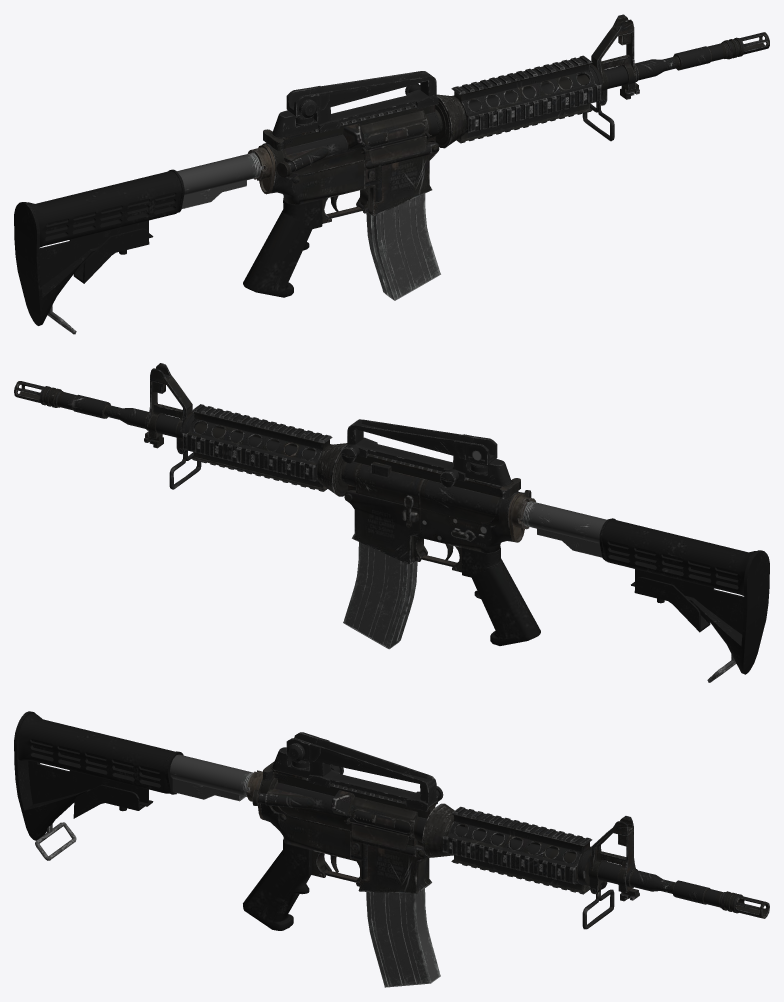
Rendered from silah_m4.glb.
3 renders of one model, top to bottom at view 1: azimuth 30°, elevation 25°; view 2: azimuth 150°, elevation 25°; view 3: azimuth 330°, elevation 25°, orthographic.
Visible parts, largest first — view 1: Body_Body1_0, Stock_lambert4_0, Scope_lambert15_0, Magazine_Mag_0; view 2: Body_Body1_0, Stock_lambert4_0, Scope_lambert15_0, Magazine_Mag_0; view 3: Body_Body1_0, Stock_lambert4_0, Scope_lambert15_0, Magazine_Mag_0.
Part boxes in pixels (x1=…): Body_Body1_0: x1=243, y1=14, x2=769, y2=297; Stock_lambert4_0: x1=14, y1=152, x2=263, y2=334; Scope_lambert15_0: x1=272, y1=71, x2=438, y2=137; Magazine_Mag_0: x1=366, y1=193, x2=440, y2=300; Body_Body1_0: x1=14, y1=363, x2=540, y2=645; Stock_lambert4_0: x1=520, y1=501, x2=769, y2=682; Scope_lambert15_0: x1=340, y1=419, x2=511, y2=487; Magazine_Mag_0: x1=343, y1=542, x2=417, y2=649; Body_Body1_0: x1=243, y1=761, x2=769, y2=930; Stock_lambert4_0: x1=14, y1=711, x2=252, y2=860; Scope_lambert15_0: x1=272, y1=732, x2=443, y2=811; Magazine_Mag_0: x1=366, y1=888, x2=440, y2=987.
Bounding box in the file's own units: 3.35 × 0.9762 × 0.2536.
Materials: 4 (4 with a texture image).
